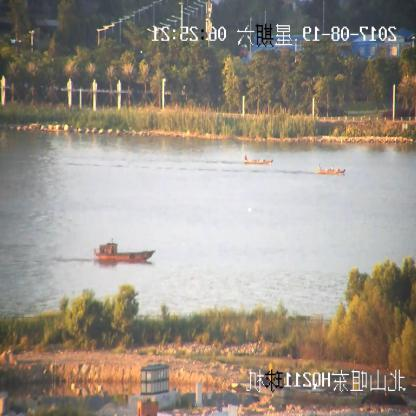Fishing Boat: (94, 242, 155, 262), (316, 163, 344, 175), (244, 156, 274, 166)
